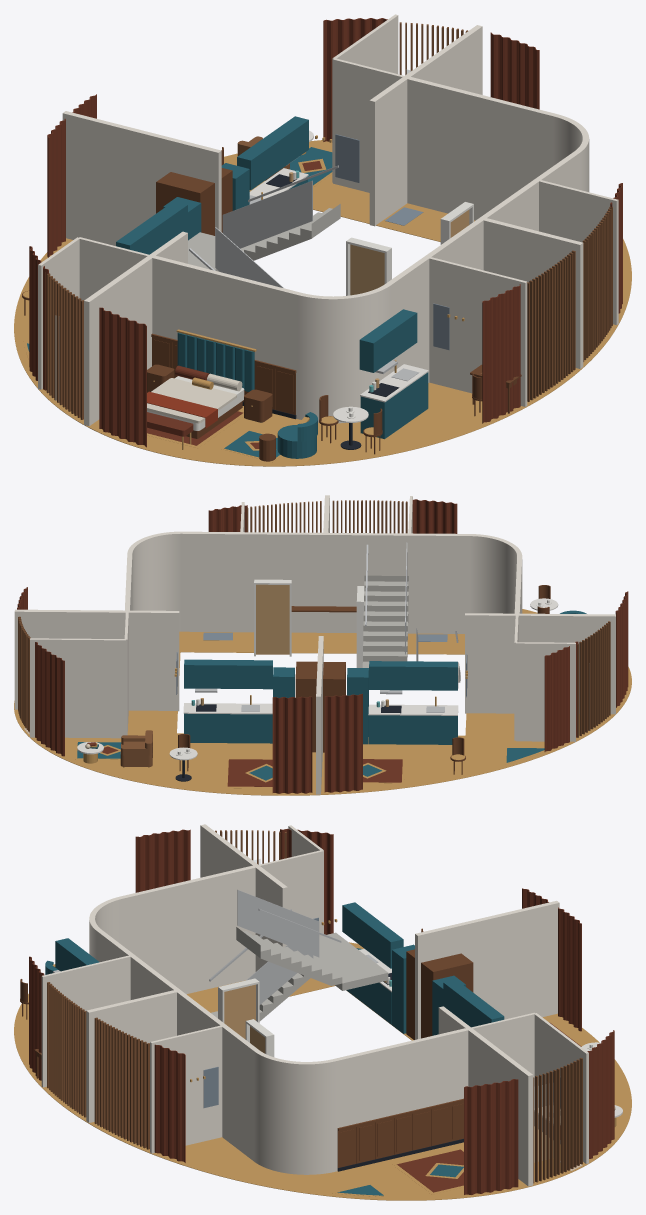
3 views of the same model, one above another, from view 1: azimuth 30°, elevation 25°; view 2: azimuth 150°, elevation 25°; view 3: azimuth 270°, elevation 25° (orthographic). The views are drawn at different scales.
Visible parts, largest first — view 1: Muros, Mobiliario, Elementos genéricos, Pisos, Carpintería, Barandales, Puertas, Escaleras, Equipo especial; view 2: Muros, Mobiliario, Pisos, Carpintería, Elementos genéricos, Escaleras, Puertas, Equipo especial, Barandales; view 3: Muros, Mobiliario, Elementos genéricos, Pisos, Carpintería, Escaleras, Barandales, Puertas, Equipo especial.
Boxes of the visible parts, x1,y1,x2,y2 form: Muros: (38, 14, 618, 426); Mobiliario: (22, 18, 622, 462); Elementos genéricos: (45, 22, 612, 419); Pisos: (14, 140, 631, 466); Carpintería: (116, 116, 428, 439); Barandales: (189, 165, 338, 288); Puertas: (346, 202, 473, 295); Escaleras: (188, 204, 340, 271); Equipo especial: (163, 163, 249, 240); Muros: (14, 495, 615, 794); Mobiliario: (17, 499, 628, 793); Pisos: (14, 609, 631, 795); Carpintería: (183, 659, 458, 752); Elementos genéricos: (18, 500, 610, 737); Escaleras: (362, 575, 460, 688); Puertas: (254, 579, 364, 667); Equipo especial: (273, 667, 368, 744); Barandales: (365, 542, 458, 661); Muros: (41, 824, 588, 1186); Mobiliario: (20, 828, 622, 1196); Elementos genéricos: (47, 830, 582, 1183); Pisos: (14, 942, 631, 1200); Carpintería: (53, 902, 560, 1139); Escaleras: (211, 927, 388, 1021); Barandales: (209, 890, 341, 1004); Puertas: (218, 978, 274, 1056); Equipo especial: (392, 944, 465, 1035).
Size of the model in its own units: 15.12 by 4.03 by 14.81.
